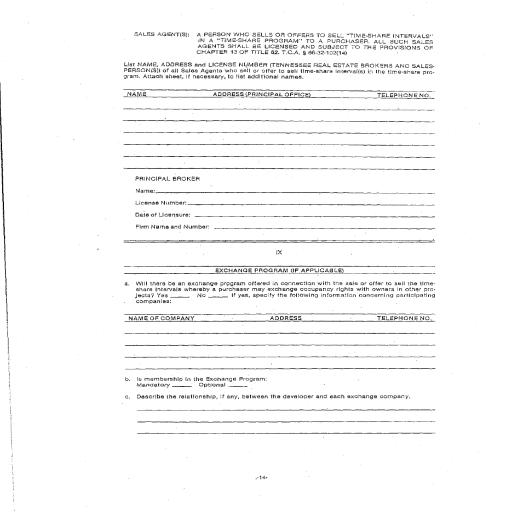Address: (210, 90, 316, 99)
check_box: (138, 380, 250, 390), (156, 292, 231, 300)
free_text: (135, 393, 413, 402), (130, 221, 211, 231), (132, 198, 188, 208), (130, 210, 192, 219), (132, 183, 156, 194), (127, 89, 151, 99)
number: (375, 90, 431, 100)
